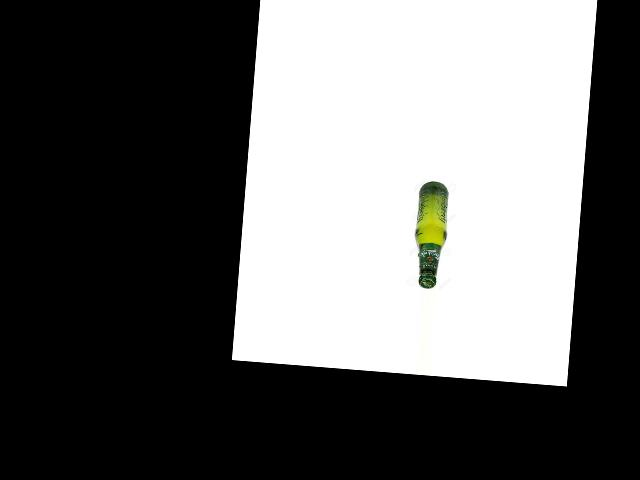beer: (410, 179, 451, 290)
